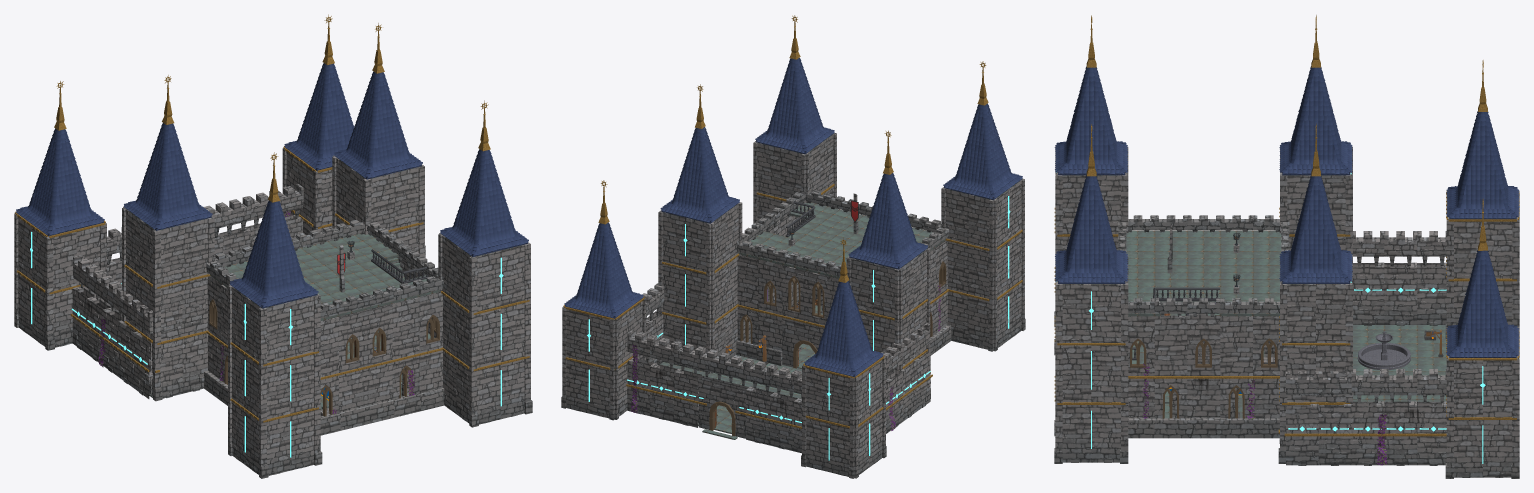
The model's file is castle.glb.
The picture shows the model from 3 angles, left to right: view 1: azimuth 30°, elevation 25°; view 2: azimuth 150°, elevation 25°; view 3: azimuth 270°, elevation 25°; orthographic projection. The views are drawn at different scales.
Parts seen in each view (by area): view 1: L0_1_stone, L0_3, L0_3_stone, H2_0, H2_1_stone, L0_9, L0_1, L0_10, H2_2; view 2: L0_1_stone, L0_3, L0_3_stone, H2_0, H2_1_stone, L0_9, L0_1, L0_0, L0_10, L0_5; view 3: L0_1_stone, L0_3, H2_0, L0_3_stone, H2_1_stone, L0_0, L0_9, L0_1, L0_7, L0_5, L0_10, H2_2.
Boxes of the visible parts, bbox=[...] form: L0_1_stone: bbox=[14, 148, 532, 478]; L0_3: bbox=[16, 14, 528, 308]; L0_3_stone: bbox=[73, 184, 425, 333]; H2_0: bbox=[210, 233, 440, 320]; H2_1_stone: bbox=[206, 218, 443, 319]; L0_9: bbox=[14, 146, 529, 422]; L0_1: bbox=[209, 299, 439, 416]; L0_10: bbox=[30, 231, 503, 457]; H2_2: bbox=[371, 249, 428, 283]; L0_1_stone: bbox=[561, 133, 1025, 478]; L0_3: bbox=[564, 15, 1022, 377]; L0_3_stone: bbox=[627, 283, 930, 399]; H2_0: bbox=[738, 202, 945, 278]; H2_1_stone: bbox=[736, 190, 948, 278]; L0_9: bbox=[563, 184, 1022, 428]; L0_1: bbox=[709, 261, 946, 436]; L0_0: bbox=[660, 136, 1019, 439]; L0_10: bbox=[587, 196, 1010, 460]; L0_5: bbox=[630, 284, 940, 430]; L0_1_stone: bbox=[1054, 146, 1519, 478]; L0_3: bbox=[1054, 15, 1519, 357]; H2_0: bbox=[1126, 230, 1281, 316]; L0_3_stone: bbox=[1286, 231, 1477, 402]; H2_1_stone: bbox=[1118, 215, 1289, 316]; L0_0: bbox=[1063, 175, 1446, 418]; L0_9: bbox=[1054, 191, 1519, 436]; L0_1: bbox=[1130, 338, 1277, 418]; L0_7: bbox=[1215, 303, 1435, 369]; L0_5: bbox=[1142, 363, 1387, 465]; L0_10: bbox=[1056, 172, 1485, 463]; H2_2: bbox=[1153, 287, 1219, 300].
Size of the model in its own units: 41.37 by 37.79 by 47.86.
Materials: 15 (12 with a texture image).
